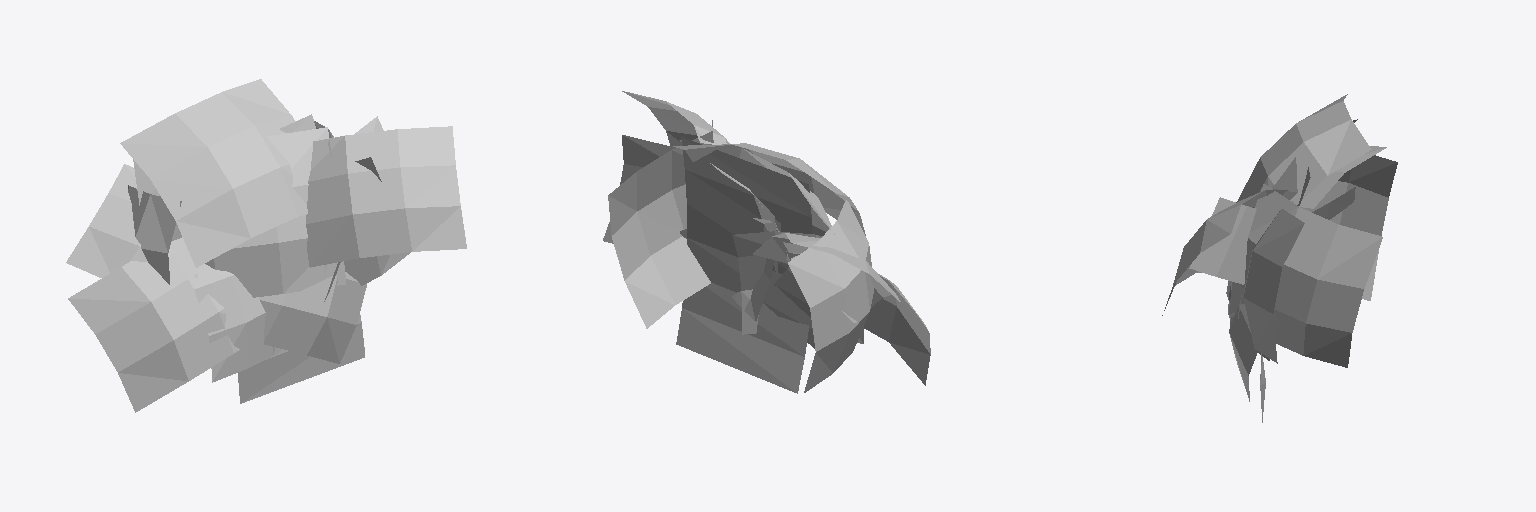
File: bushes01_01.obj
3 views of the same model, side by side, from view 1: azimuth 30°, elevation 25°; view 2: azimuth 150°, elevation 25°; view 3: azimuth 270°, elevation 25° (orthographic).
Parts seen in each view (by area): view 1: bushes01_01; view 2: bushes01_01; view 3: bushes01_01.
Part boxes in pixels (left/top/right/bottom): bushes01_01: left=66, top=79, right=466, bottom=412; bushes01_01: left=603, top=91, right=930, bottom=393; bushes01_01: left=1162, top=94, right=1397, bottom=422.
Bounding box in the file's own units: 81.84 × 62.51 × 48.67.